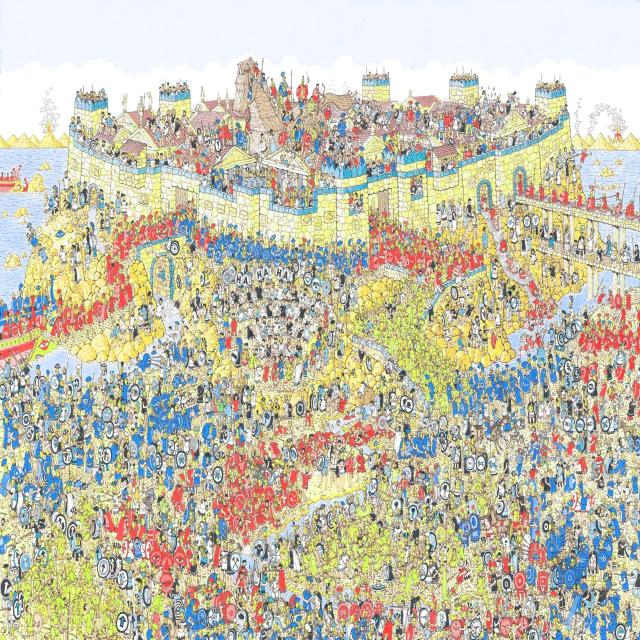waldo: (104, 536, 109, 545)
